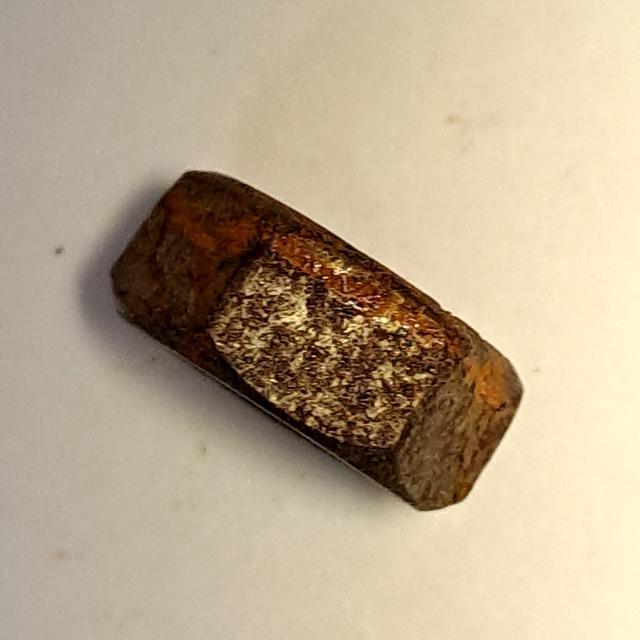Side_Rust: (98, 158, 539, 522)
